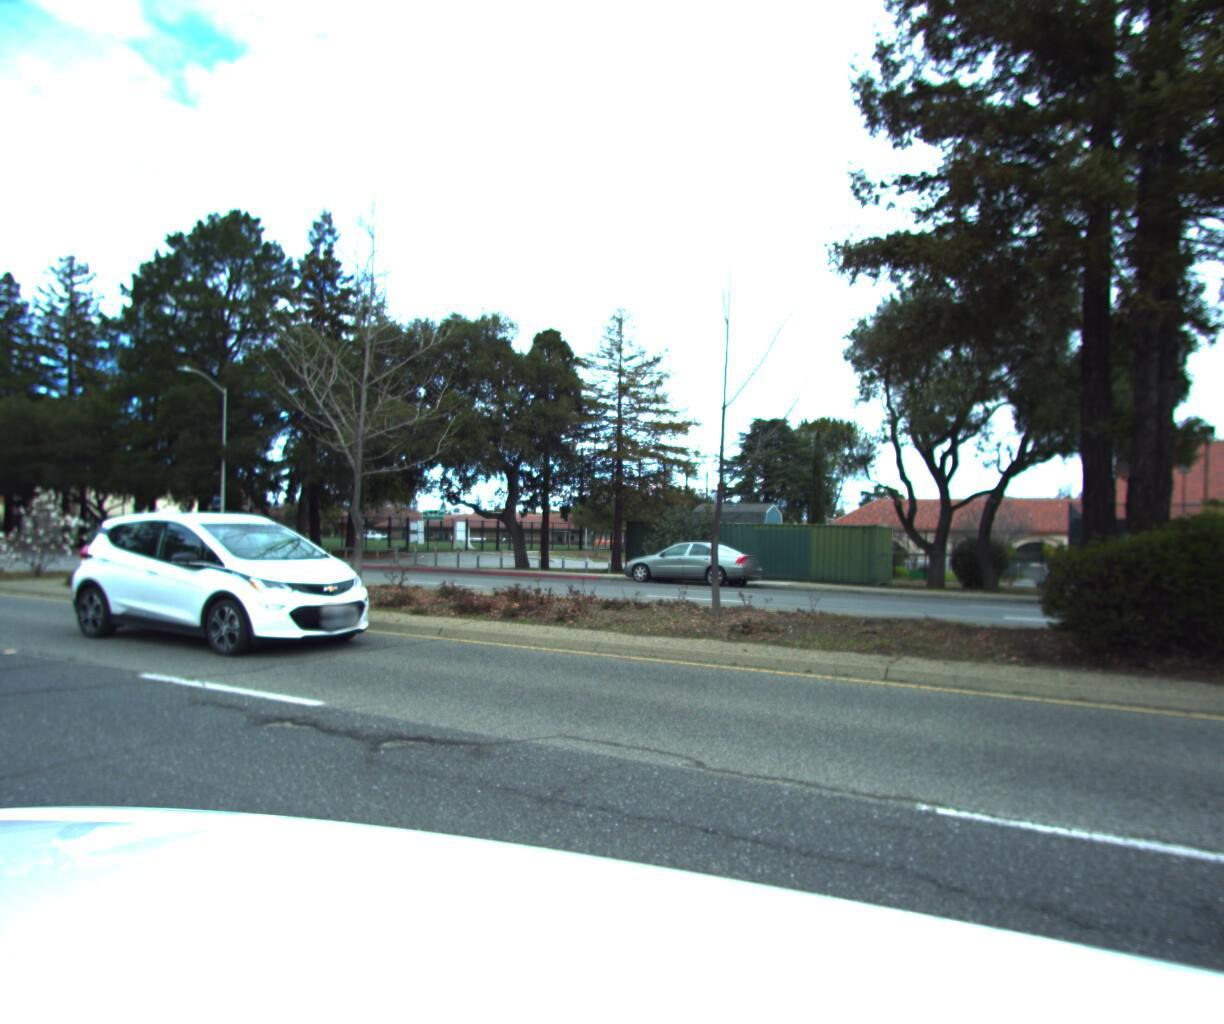car: (45, 502, 394, 661), (611, 533, 768, 586)
